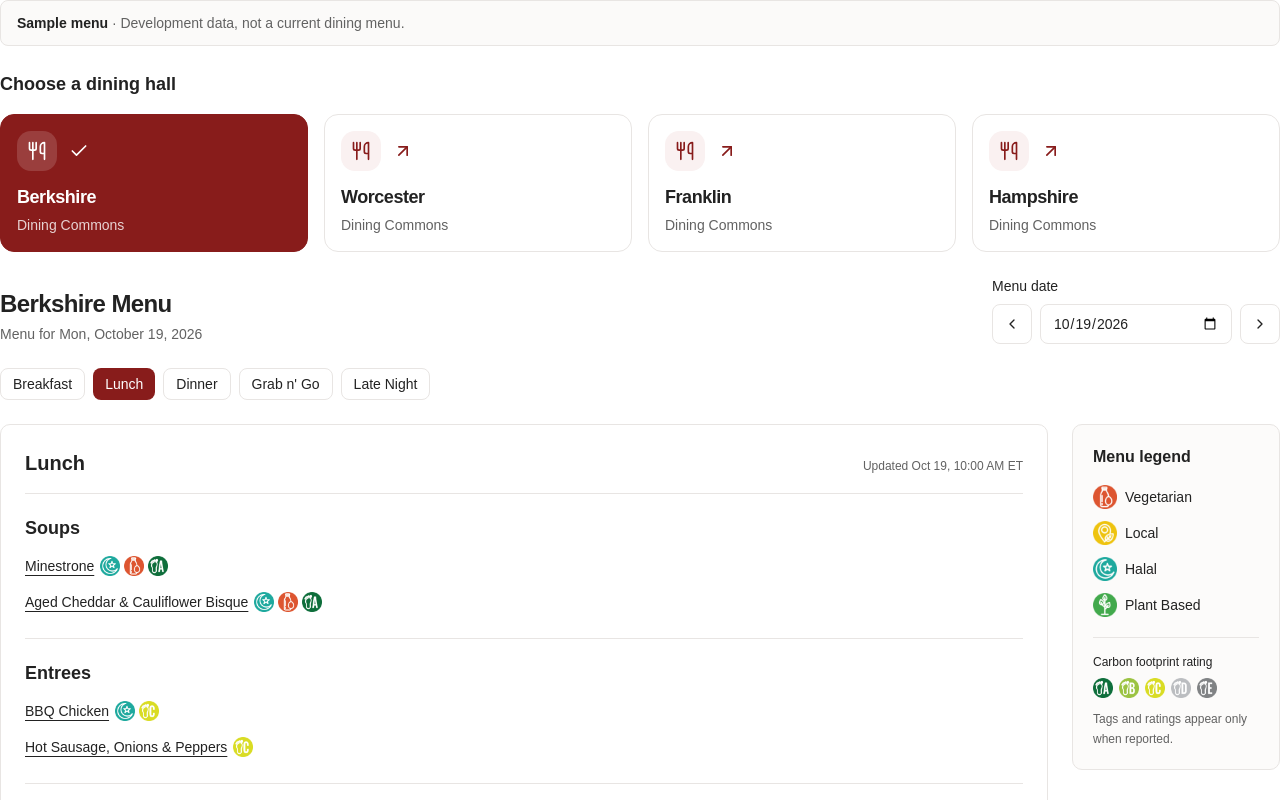
Test case: Menus › loads the selected food's details and restores focus when closed
Click the button "Aged Cheddar & Cauliflower Bisque" at (137, 602), box [25,586,248,618]
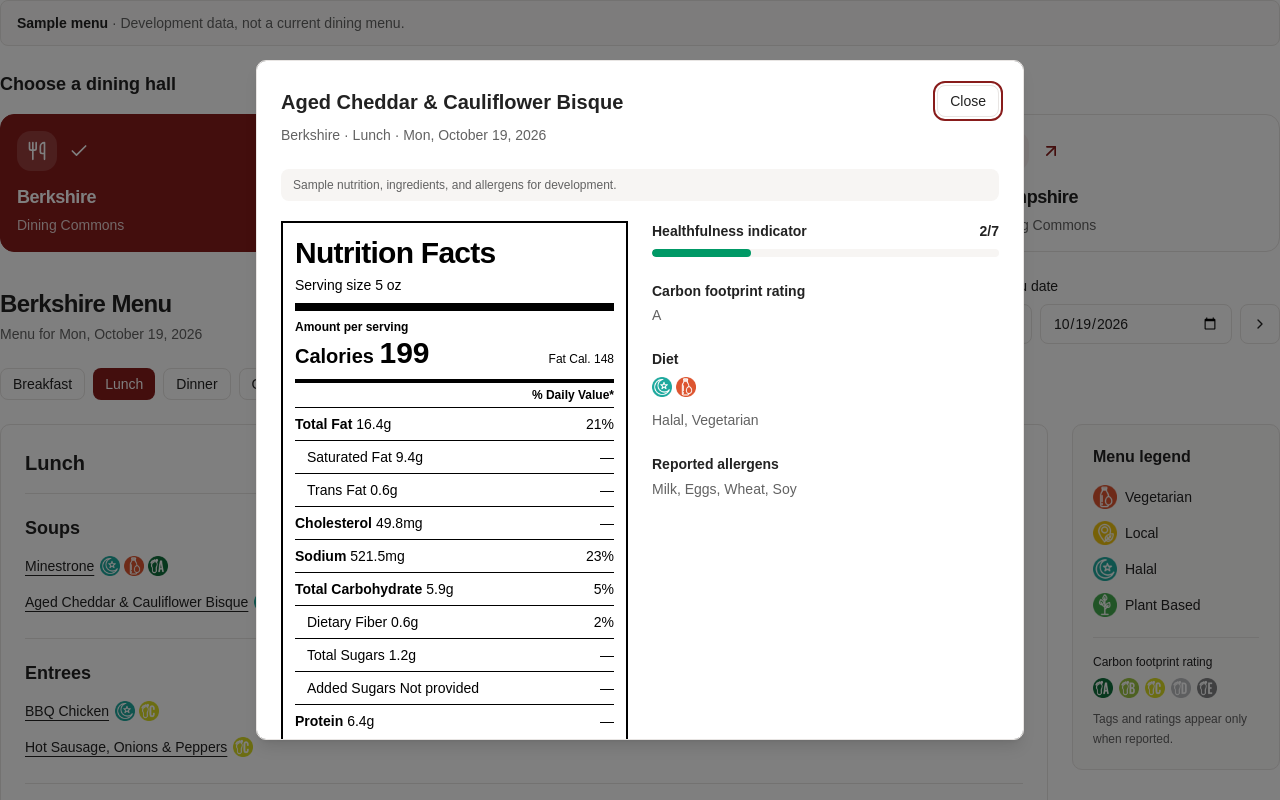
Now the heading "Nutrition Facts" is shown, box [295,236,495,269]
Now the text "Milk, Eggs, Wheat, Soy" is shown, box [652,481,797,497]
Click the button with aria-label "Close food details" at (968, 101), box [937,85,999,117]
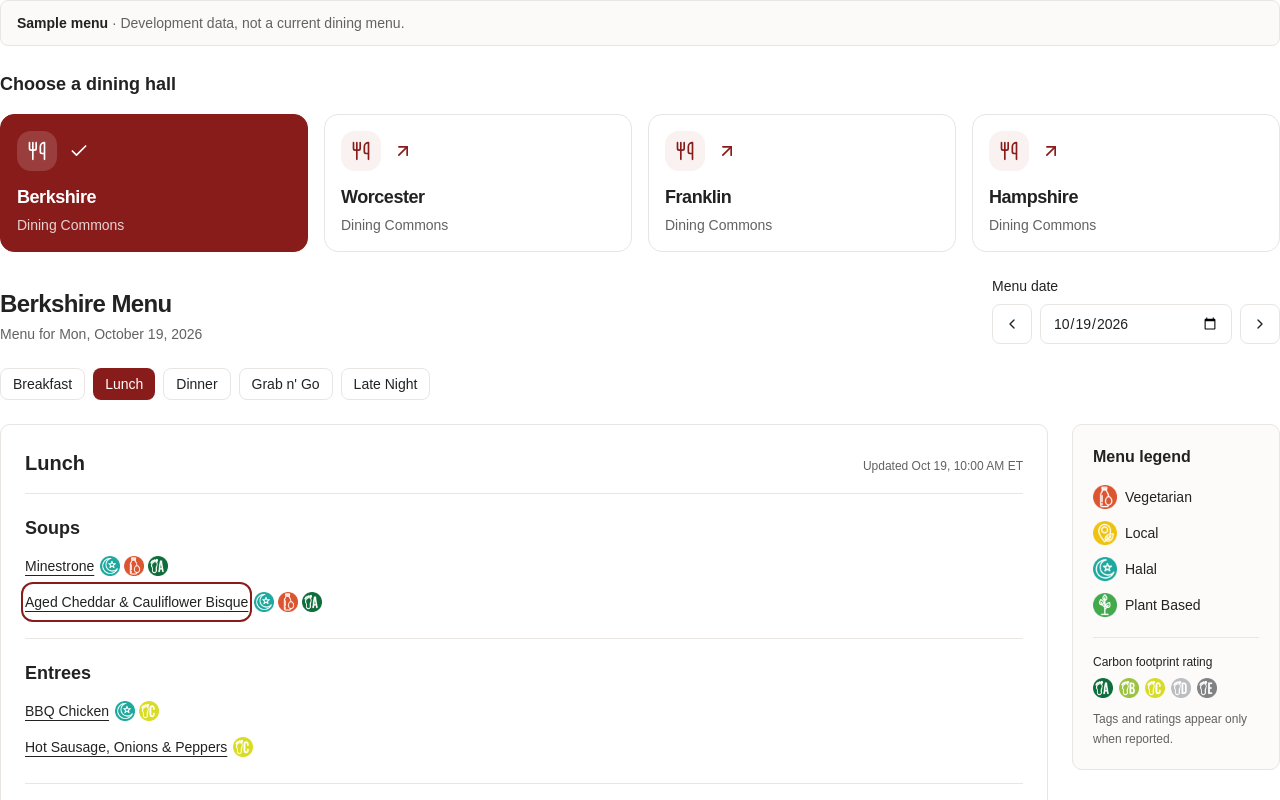
Now the dialog is gone
